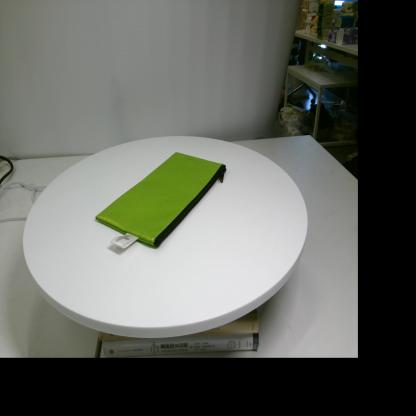Stationery: (95, 152, 227, 249)
